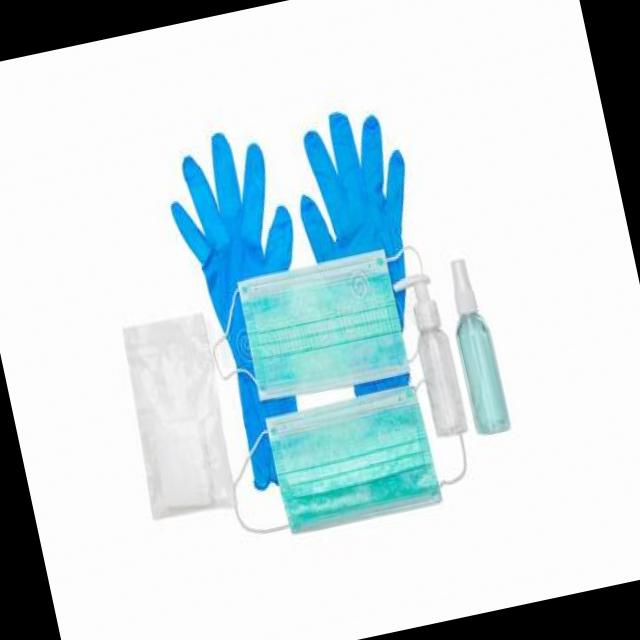sanitizer: (438, 252, 517, 439), (388, 262, 469, 442)
